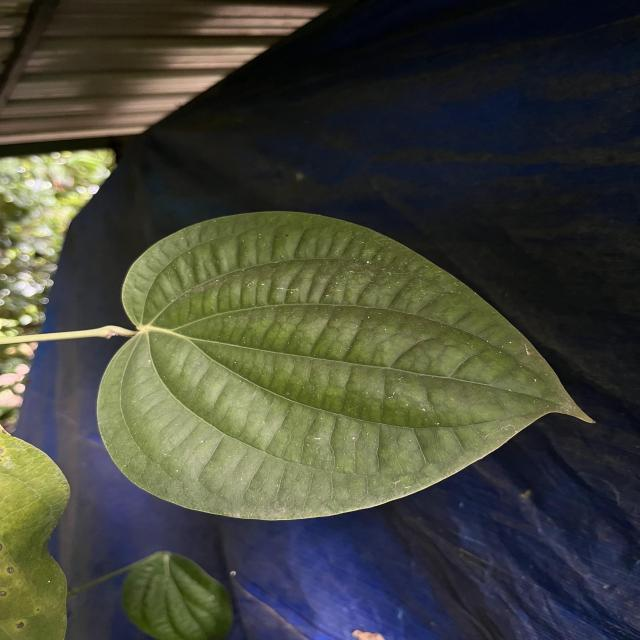Piper nigrum: (93, 203, 601, 524)
